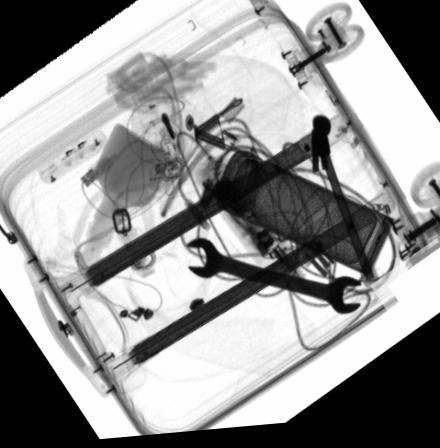Hammer: (311, 120, 382, 298)
Wrench: (186, 241, 364, 322)
